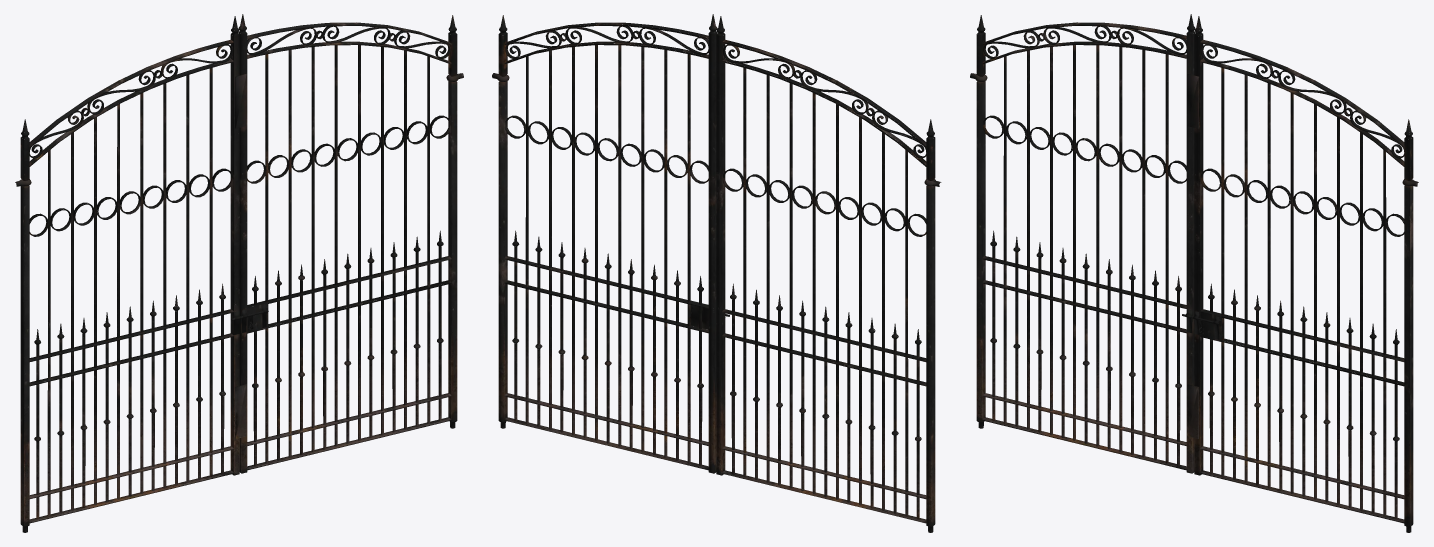
Rendered from large_iron_gate.glb.
3 views of the same model, side by side, from view 1: azimuth 30°, elevation 25°; view 2: azimuth 150°, elevation 25°; view 3: azimuth 330°, elevation 25° (orthographic).
Parts seen in each view (by area): view 1: large_iron_gate_right_door, large_iron_gate_left_door; view 2: large_iron_gate_left_door, large_iron_gate_right_door; view 3: large_iron_gate_right_door, large_iron_gate_left_door.
Part boxes in pixels (box(x1,y1,x2,y2)): large_iron_gate_right_door: box(235, 14, 457, 473); large_iron_gate_left_door: box(20, 16, 240, 532); large_iron_gate_left_door: box(716, 16, 935, 532); large_iron_gate_right_door: box(498, 14, 717, 473); large_iron_gate_right_door: box(1187, 16, 1413, 532); large_iron_gate_left_door: box(976, 14, 1195, 473).
Size of the model in its own units: 2.95 by 2.93 by 0.0977.
1 material, 1 textured.
